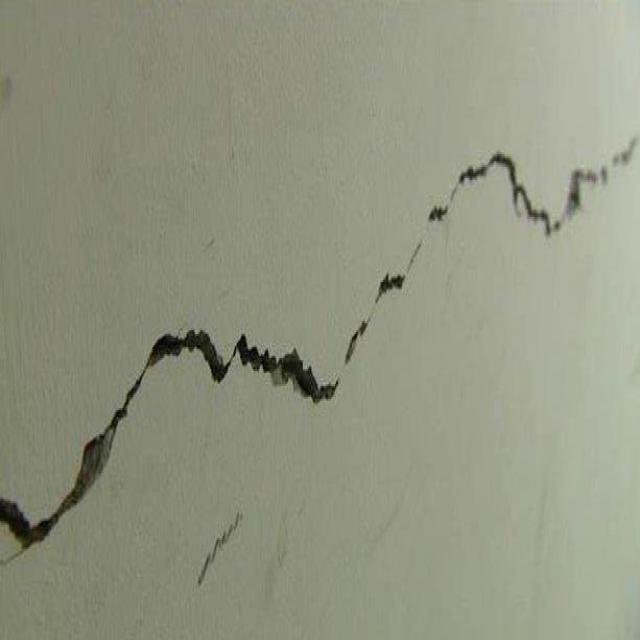crack: (1, 323, 374, 552), (427, 133, 638, 235), (369, 240, 425, 308)
